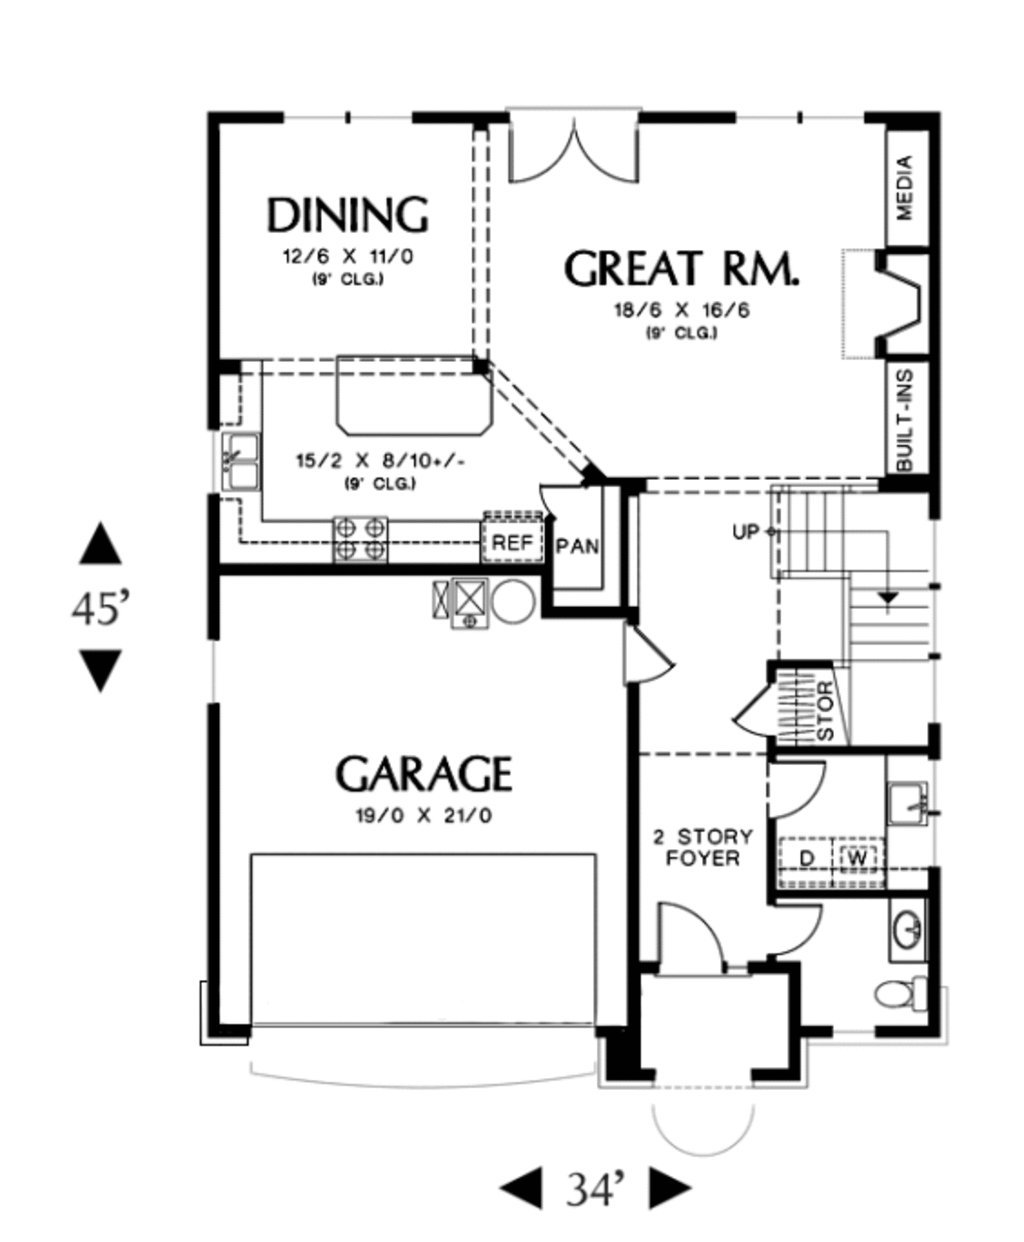door: (504, 102, 651, 192), (649, 898, 734, 977), (768, 756, 834, 821), (619, 615, 671, 685), (771, 898, 828, 960), (528, 473, 596, 524), (728, 685, 775, 734)
large_sink: (868, 968, 932, 1028)
sink: (873, 769, 942, 838)
small_sink: (883, 905, 924, 965)
stairs: (766, 487, 954, 671)
twin_sink: (214, 430, 275, 492)
